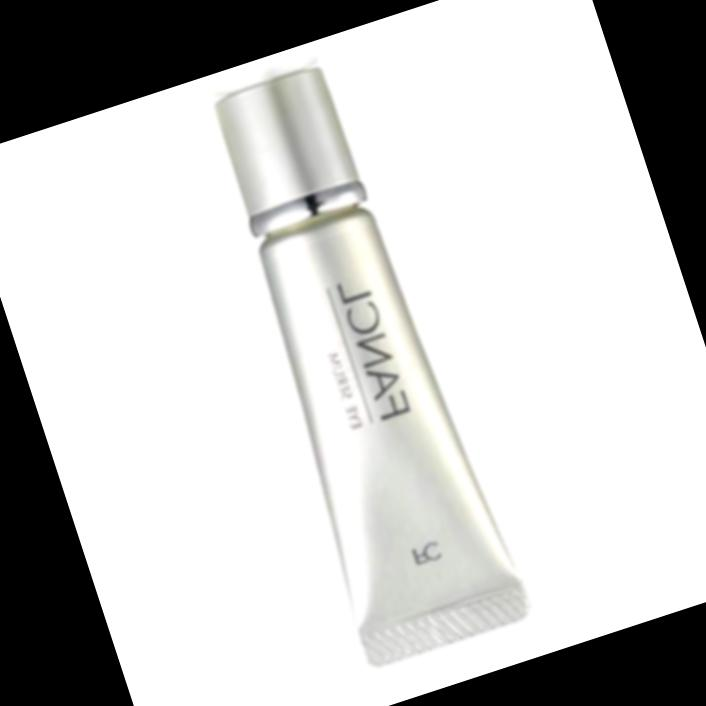cosmetic: (186, 56, 523, 673)
